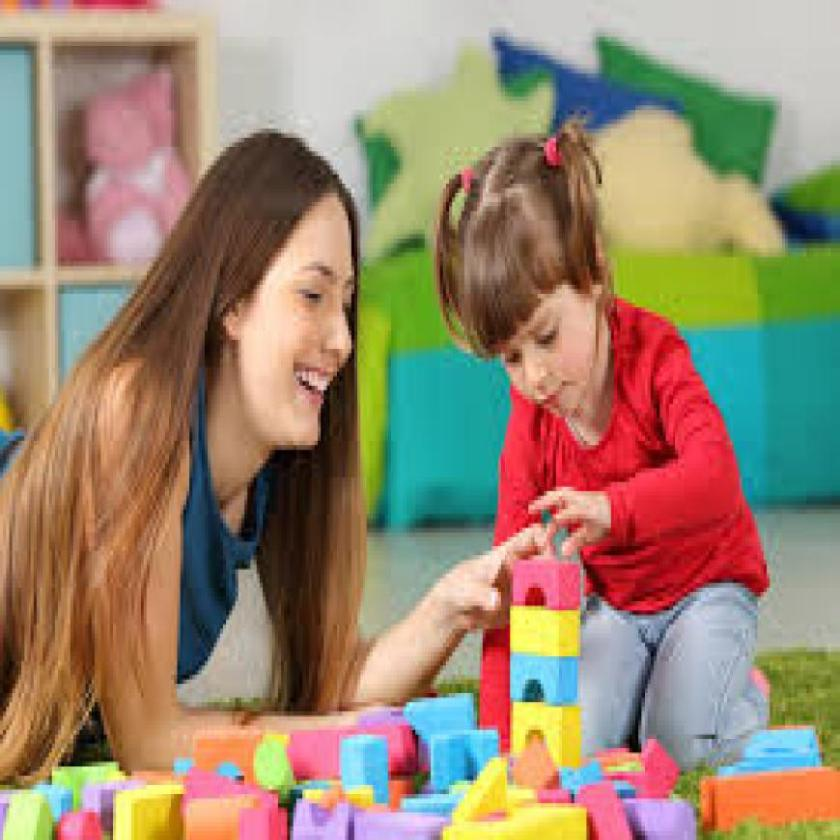Sin_casco: (202, 121, 368, 483), (444, 137, 610, 419)
